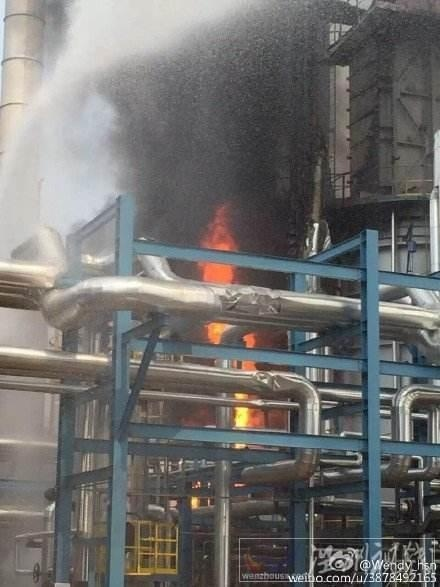fire: (198, 210, 238, 284)
